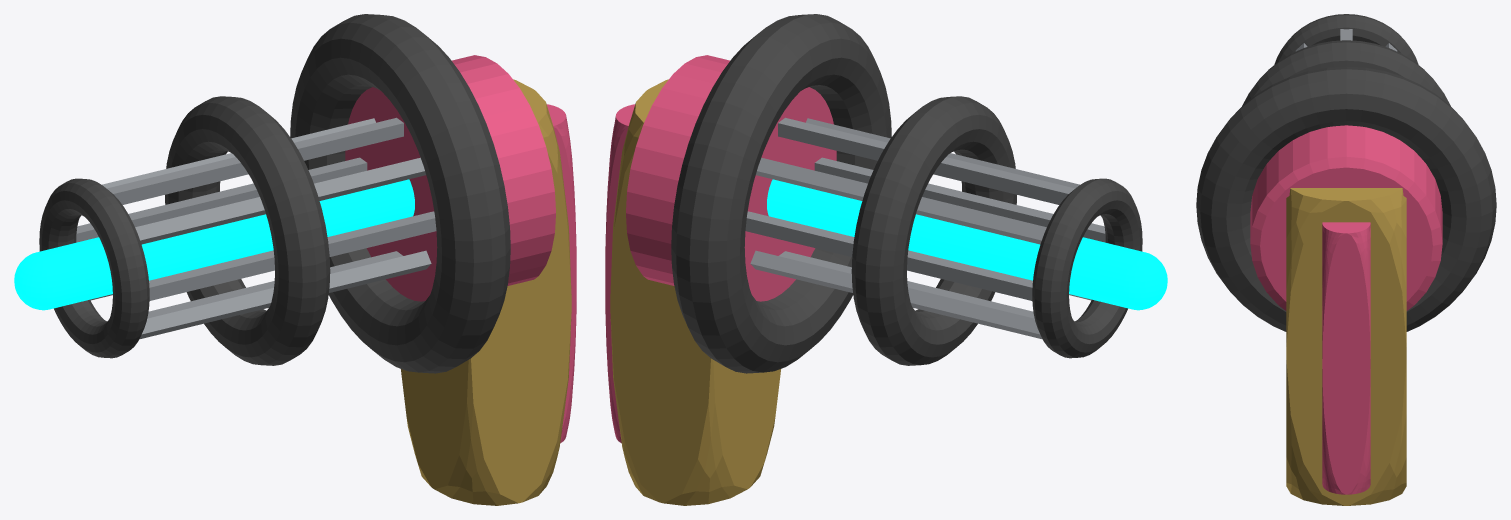
The model's file is Pistol.fbx.
3 renders of one model, left to right at view 1: azimuth 30°, elevation 25°; view 2: azimuth 150°, elevation 25°; view 3: azimuth 270°, elevation 25°, orthographic. The views are drawn at different scales.
Visible parts, largest first — view 1: Torus, Cube, Torus.002, Cylinder.001, Cylinder, Torus.001, Cube.001, Cube.003, Cube.008, Cube.005, Cube.002, Cube.009 (+2 smaller); view 2: Torus, Cube, Torus.002, Cylinder.001, Cylinder, Torus.001, Cube.002, Cube.003, Cube.007, Cube.006, Cube.001, Cube.009 (+2 smaller); view 3: Torus, Cube, Cylinder.001, Cube.009, Torus.002, Torus.001.
Boxes of the visible parts, bbox=[...] form: Torus: bbox=[290, 14, 510, 373]; Cube: bbox=[401, 79, 571, 505]; Torus.002: bbox=[165, 96, 330, 365]; Cylinder.001: bbox=[345, 55, 555, 301]; Cylinder: bbox=[14, 179, 414, 310]; Torus.001: bbox=[39, 178, 149, 358]; Cube.001: bbox=[149, 211, 436, 300]; Cube.003: bbox=[107, 117, 403, 204]; Cube.008: bbox=[135, 157, 425, 244]; Cube.005: bbox=[139, 250, 431, 339]; Cube.002: bbox=[76, 157, 367, 242]; Cube.009: bbox=[547, 104, 576, 442]; Torus: bbox=[671, 14, 891, 373]; Cube: bbox=[610, 79, 780, 505]; Torus.002: bbox=[851, 96, 1016, 365]; Cylinder.001: bbox=[626, 55, 836, 301]; Cylinder: bbox=[767, 179, 1167, 310]; Torus.001: bbox=[1032, 178, 1142, 358]; Cube.002: bbox=[745, 211, 1032, 300]; Cube.003: bbox=[778, 117, 1074, 204]; Cube.007: bbox=[756, 157, 1046, 244]; Cube.006: bbox=[750, 250, 1042, 339]; Cube.001: bbox=[814, 157, 1105, 242]; Cube.009: bbox=[605, 104, 634, 442]; Torus: bbox=[1196, 66, 1496, 331]; Cube: bbox=[1286, 188, 1406, 505]; Cylinder.001: bbox=[1250, 125, 1442, 310]; Cube.009: bbox=[1322, 222, 1370, 494]; Torus.002: bbox=[1242, 40, 1450, 105]; Torus.001: bbox=[1274, 14, 1418, 64].
Bounding box in the file's own units: 213 × 176 × 125.
